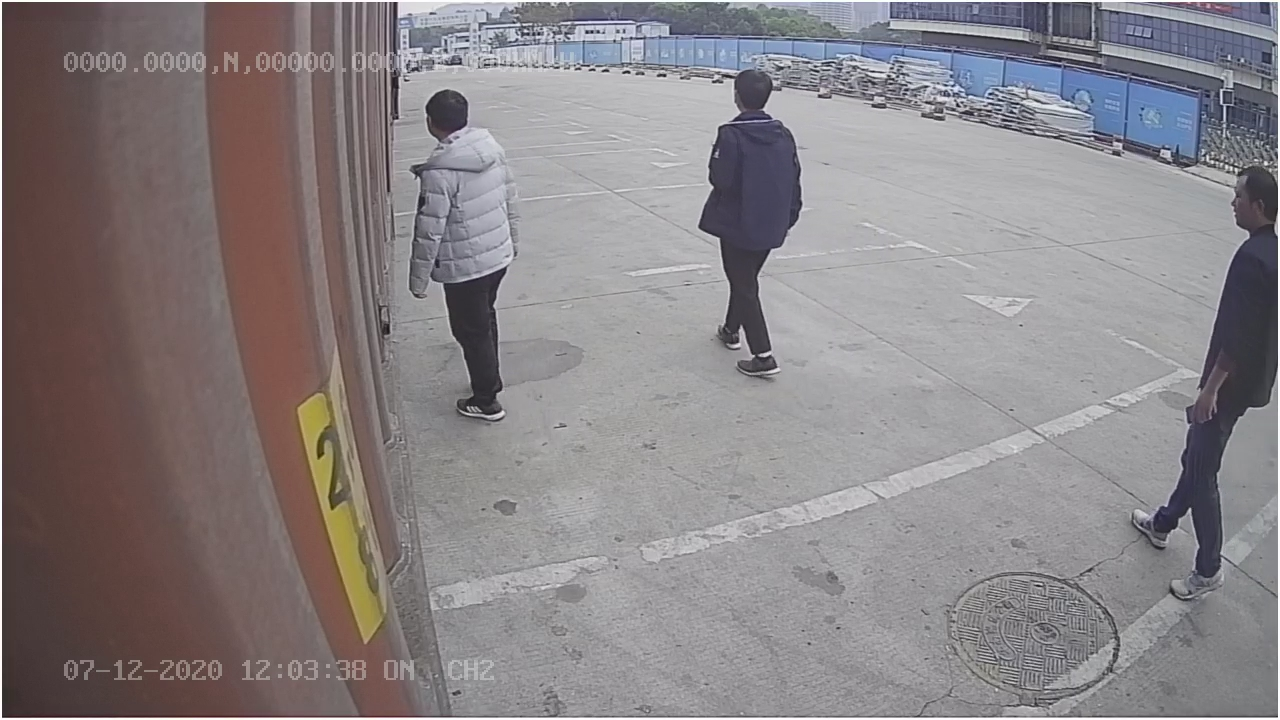person: (410, 89, 525, 418), (700, 64, 805, 383)
